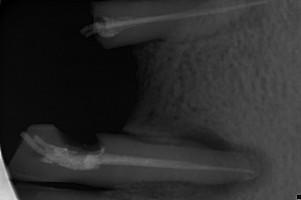Furcation Involvement: (172, 126, 272, 193), (215, 0, 282, 36)
